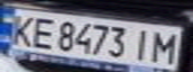3: (106, 24, 133, 60)
4: (72, 20, 93, 55)
7: (90, 22, 112, 56)
8: (51, 19, 78, 53)
E: (27, 15, 60, 49)
I: (127, 27, 157, 62)
K: (3, 11, 39, 46)
M: (148, 28, 184, 64)
